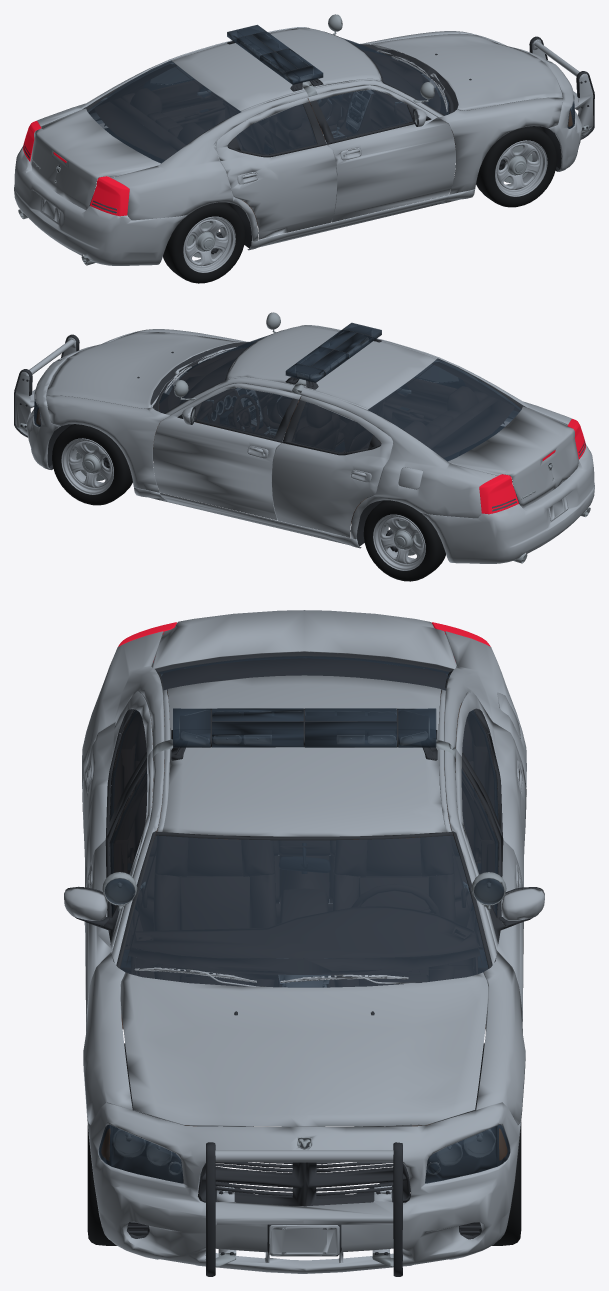
The model's file is police-usa.glb.
The picture shows the model from 3 angles, top to bottom: view 1: azimuth 30°, elevation 25°; view 2: azimuth 150°, elevation 25°; view 3: azimuth 270°, elevation 25°; orthographic projection. The views are drawn at different scales.
Visible parts, largest first — view 1: Police USA, wheel-4, wheel-2; view 2: Police USA, wheel-3, wheel-1; view 3: Police USA, wheel-1, wheel-2.
Part boxes in pixels (x1,y1,x2,y2): Police USA: (14, 14, 594, 265); wheel-4: (163, 202, 245, 283); wheel-2: (476, 126, 556, 207); Police USA: (14, 312, 594, 563); wheel-3: (363, 500, 445, 581); wheel-1: (52, 424, 132, 505); Police USA: (64, 610, 544, 1276); wheel-1: (465, 1073, 521, 1245); wheel-2: (87, 1073, 143, 1245).
Bounding box in the file's own units: 5.21 × 1.55 × 2.06.
